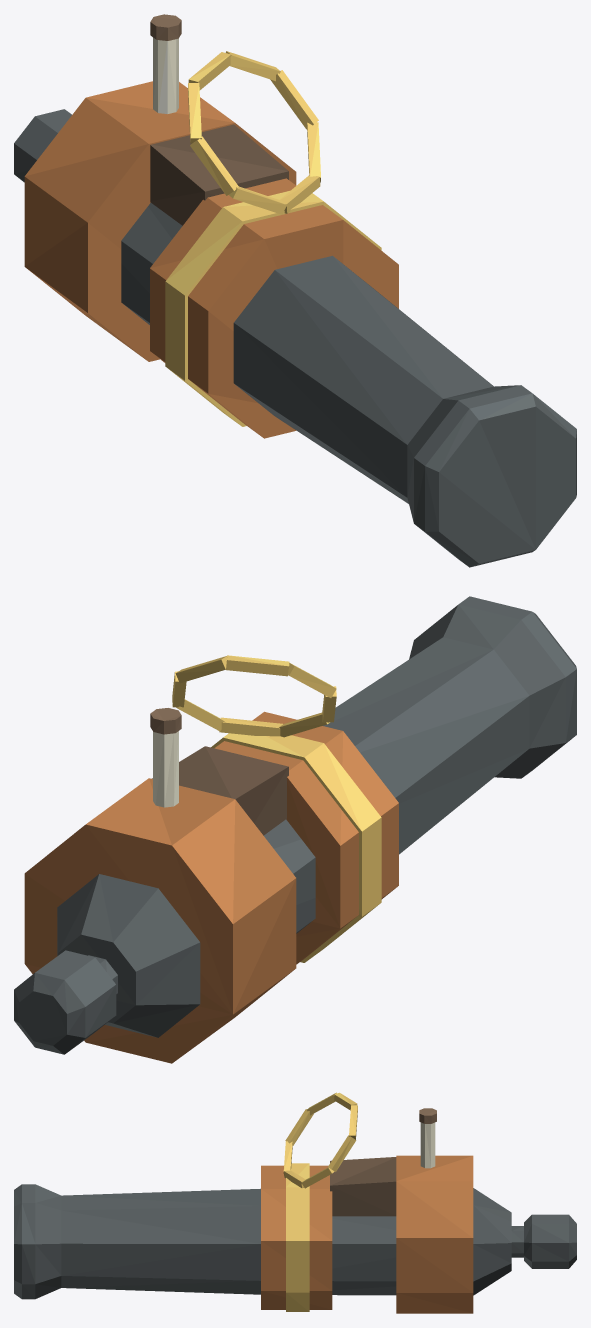
The model's file is canon.fbx.
The picture shows the model from 3 angles, top to bottom: view 1: azimuth 30°, elevation 25°; view 2: azimuth 150°, elevation 25°; view 3: azimuth 270°, elevation 25°; orthographic projection. The views are drawn at different scales.
Visible parts, largest first — view 1: canon; view 2: canon; view 3: canon.
Part boxes in pixels (x1=…): canon: x1=14, y1=14, x2=576, y2=567; canon: x1=14, y1=596, x2=576, y2=1063; canon: x1=14, y1=1092, x2=576, y2=1313.
Bounding box in the file's own units: 0.2462 × 0.3656 × 0.95.
1 material, 1 textured.
